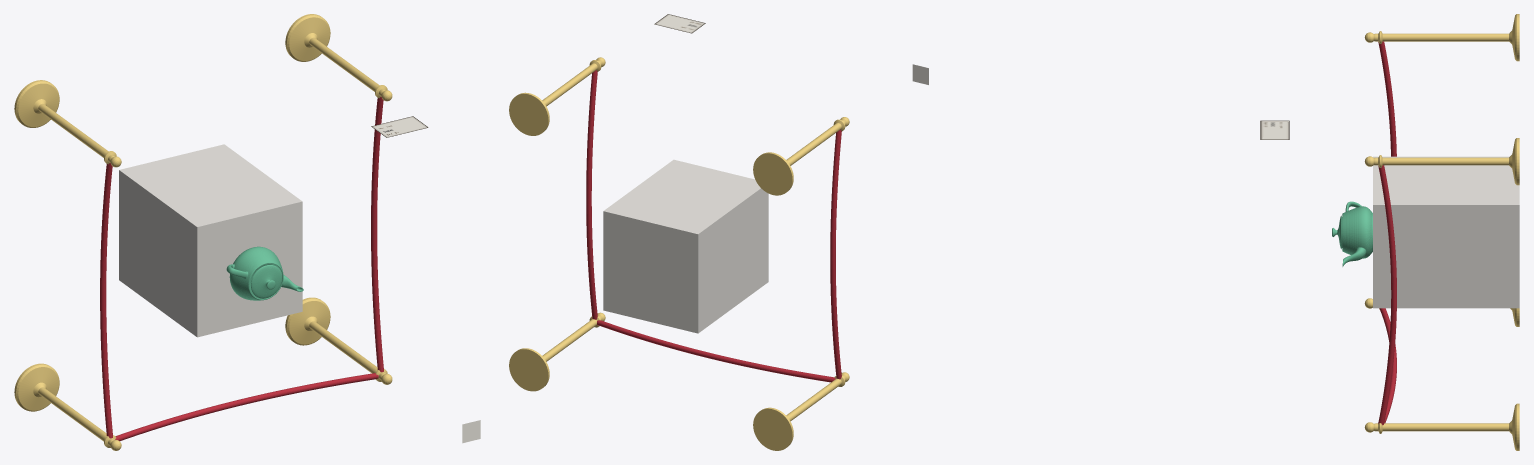
The model's file is dry_run_B1.gltf.
3 views of the same model, side by side, from view 1: azimuth 30°, elevation 25°; view 2: azimuth 150°, elevation 25°; view 3: azimuth 270°, elevation 25° (orthographic). The views are drawn at different scales.
Visible parts, largest first — view 1: PRIM_CUBE_plinth_B1, STANCHION_B1_4, STANCHION_B1_3, STANCHION_B1_1, STANCHION_B1_2, ROPE_B1_left, ROPE_B1_front, ROPE_B1_right, EX_jade, EX_jade_lid, PRIM_PLANE_placard_B1; view 2: PRIM_CUBE_plinth_B1, STANCHION_B1_4, STANCHION_B1_3, STANCHION_B1_1, STANCHION_B1_2, ROPE_B1_right, ROPE_B1_left, ROPE_B1_front, PRIM_PLANE_placard_B1; view 3: PRIM_CUBE_plinth_B1, ROPE_B1_right, STANCHION_B1_3, STANCHION_B1_4, STANCHION_B1_2, EX_jade, ROPE_B1_left, PRIM_PLANE_placard_B1.
Part boxes in pixels (x1=…): PRIM_CUBE_plinth_B1: x1=119, y1=144, x2=302, y2=337; STANCHION_B1_4: x1=14, y1=80, x2=121, y2=167; STANCHION_B1_3: x1=285, y1=14, x2=392, y2=101; STANCHION_B1_1: x1=14, y1=363, x2=121, y2=450; STANCHION_B1_2: x1=285, y1=297, x2=392, y2=384; ROPE_B1_left: x1=100, y1=163, x2=112, y2=438; ROPE_B1_front: x1=115, y1=373, x2=378, y2=440; ROPE_B1_right: x1=371, y1=97, x2=383, y2=372; EX_jade: x1=226, y1=246, x2=303, y2=300; EX_jade_lid: x1=251, y1=265, x2=282, y2=298; PRIM_PLANE_placard_B1: x1=371, y1=116, x2=428, y2=137; PRIM_CUBE_plinth_B1: x1=603, y1=159, x2=768, y2=333; STANCHION_B1_4: x1=753, y1=117, x2=849, y2=195; STANCHION_B1_3: x1=509, y1=57, x2=605, y2=135; STANCHION_B1_1: x1=753, y1=372, x2=849, y2=450; STANCHION_B1_2: x1=509, y1=312, x2=605, y2=391; ROPE_B1_right: x1=586, y1=70, x2=597, y2=319; ROPE_B1_left: x1=830, y1=129, x2=841, y2=379; ROPE_B1_front: x1=597, y1=320, x2=835, y2=382; PRIM_PLANE_placard_B1: x1=654, y1=14, x2=705, y2=33; PRIM_CUBE_plinth_B1: x1=1373, y1=156, x2=1519, y2=308; ROPE_B1_right: x1=1378, y1=165, x2=1396, y2=425; STANCHION_B1_3: x1=1364, y1=138, x2=1519, y2=185; STANCHION_B1_4: x1=1364, y1=14, x2=1519, y2=61; STANCHION_B1_2: x1=1364, y1=403, x2=1519, y2=450; EX_jade: x1=1342, y1=201, x2=1372, y2=266; ROPE_B1_left: x1=1378, y1=41, x2=1396, y2=156; PRIM_PLANE_placard_B1: x1=1260, y1=120, x2=1289, y2=139.
Bounding box in the file's own units: 2.09 × 2.09 × 3.45.
6 materials, 1 textured.
